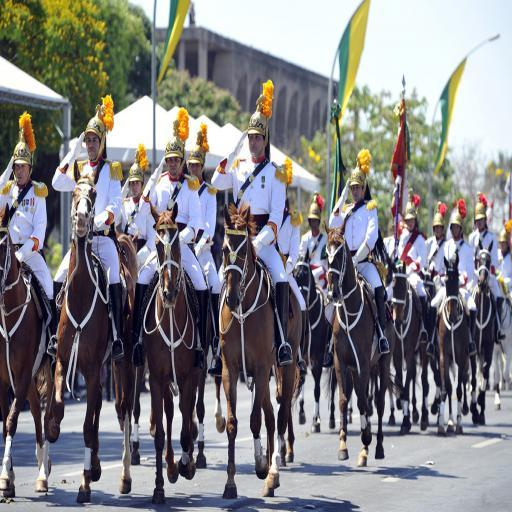Horse: (50, 186, 140, 504), (218, 203, 303, 501), (141, 198, 213, 507), (323, 224, 398, 471), (0, 206, 56, 495), (293, 250, 345, 434), (385, 257, 427, 434), (433, 253, 473, 436), (114, 270, 150, 465), (468, 237, 501, 430), (270, 308, 308, 467), (213, 297, 250, 432), (416, 269, 440, 433)
